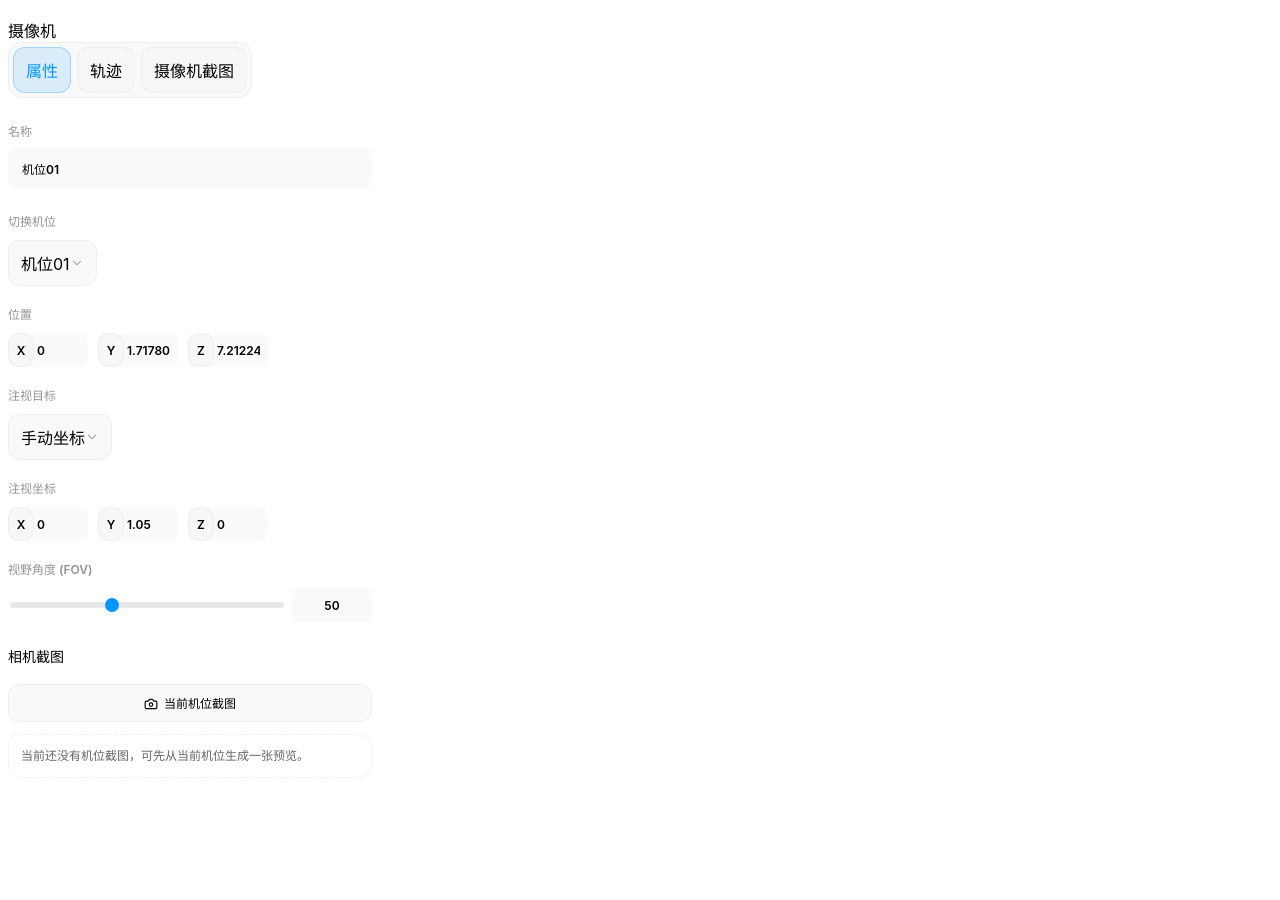
Test: edits and removes the selected camera motion keyframe
This screenshot has width=1280, height=900.
Step 1. Click the button "轨迹" → coordinates (106, 70), box [77,47,135,93]
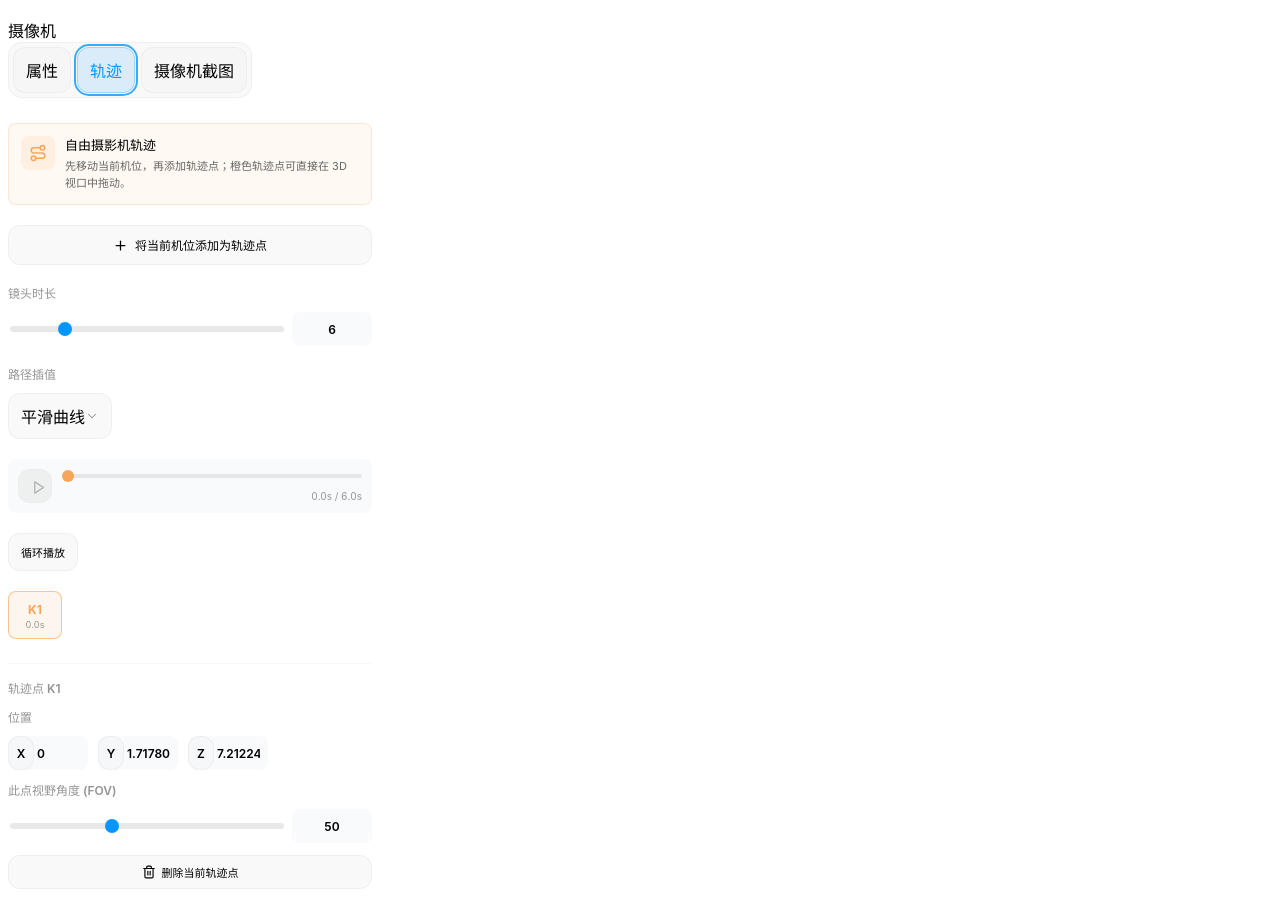
Step 2. Replace the text in the number field named "轨迹点位置 X" with "7.5" → coordinates (60, 753), box [31,736,88,770]
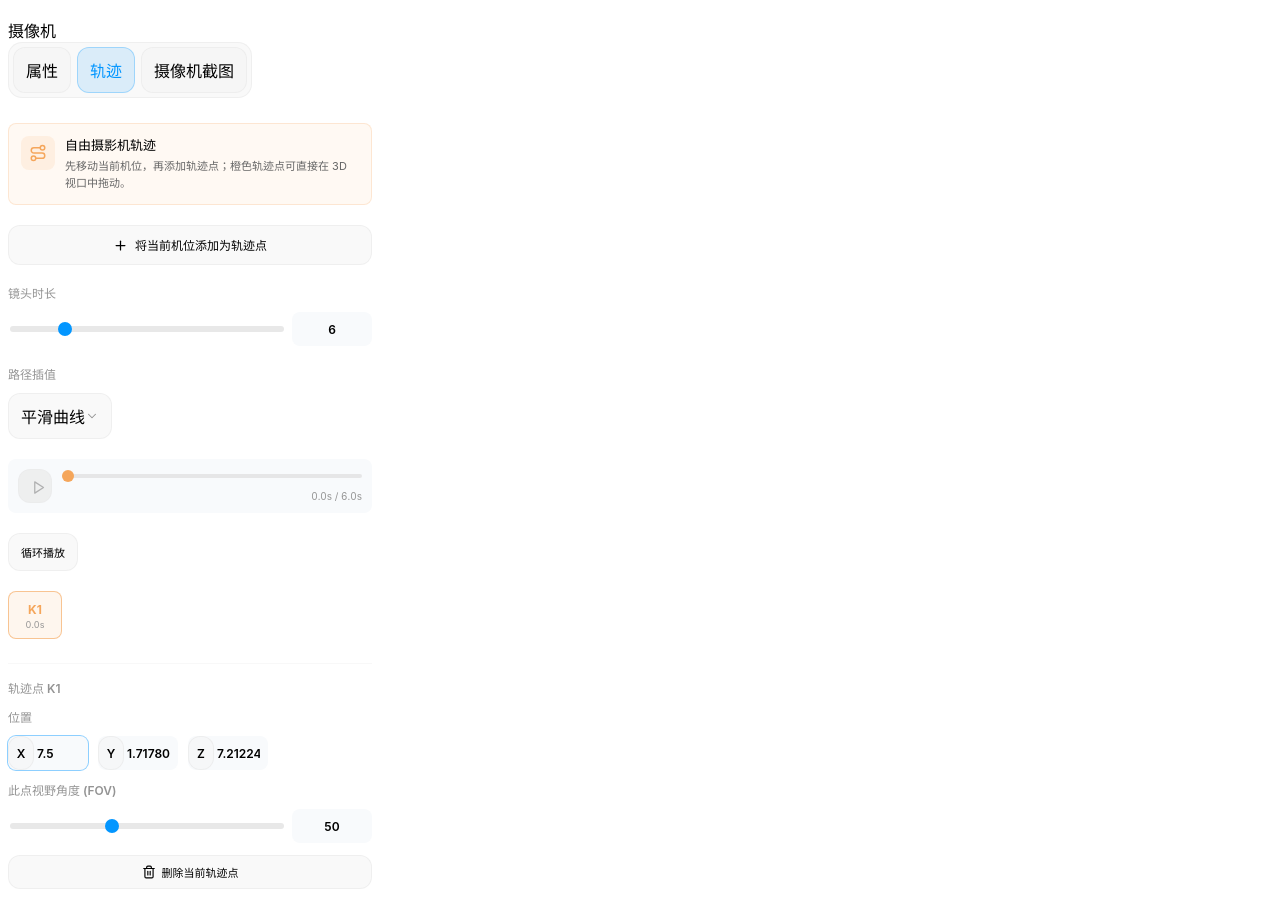
Step 3. Replace the text in the number field named "轨迹点 FOV" with "32" → coordinates (332, 826), box [292,809,372,843]
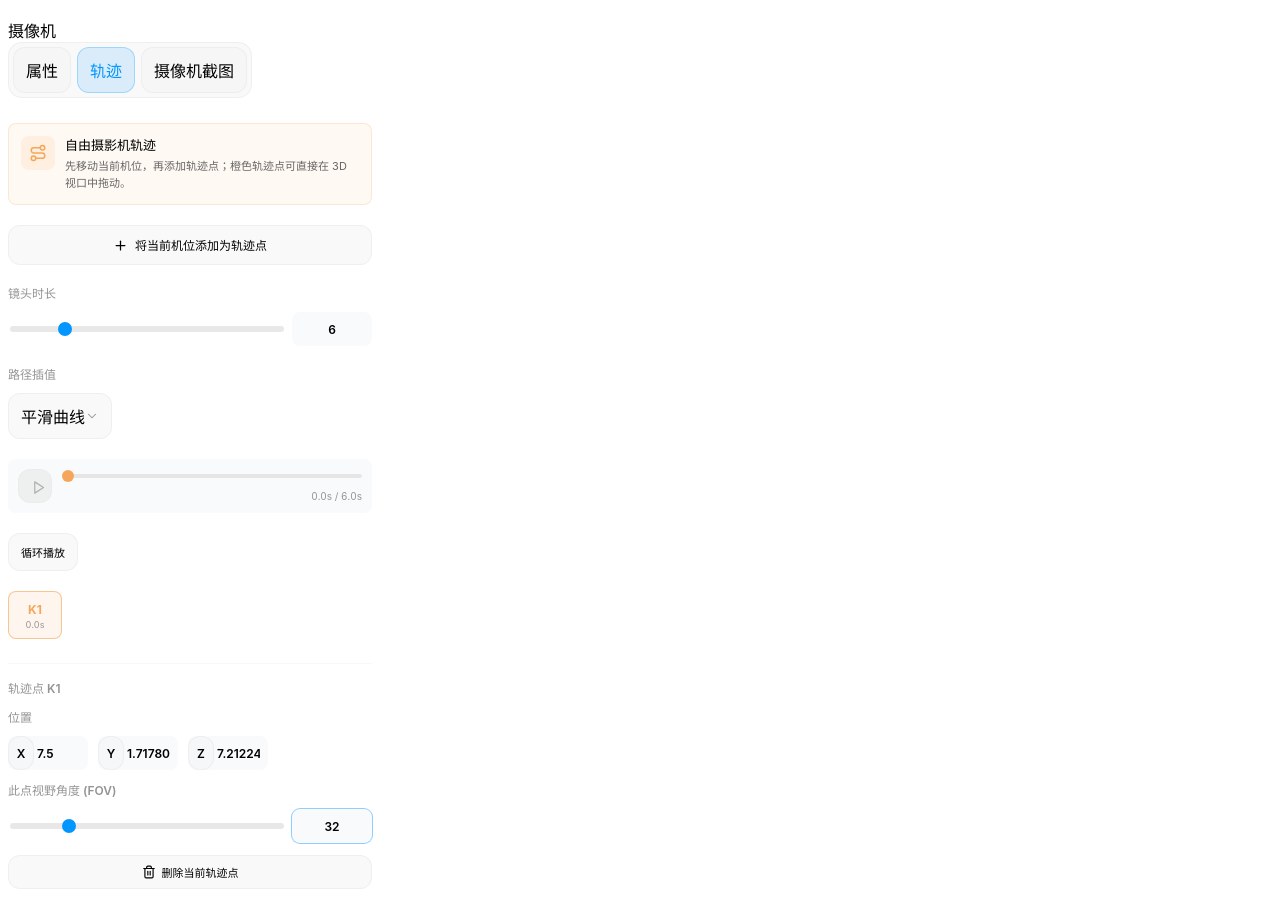
Step 4. Press Tab
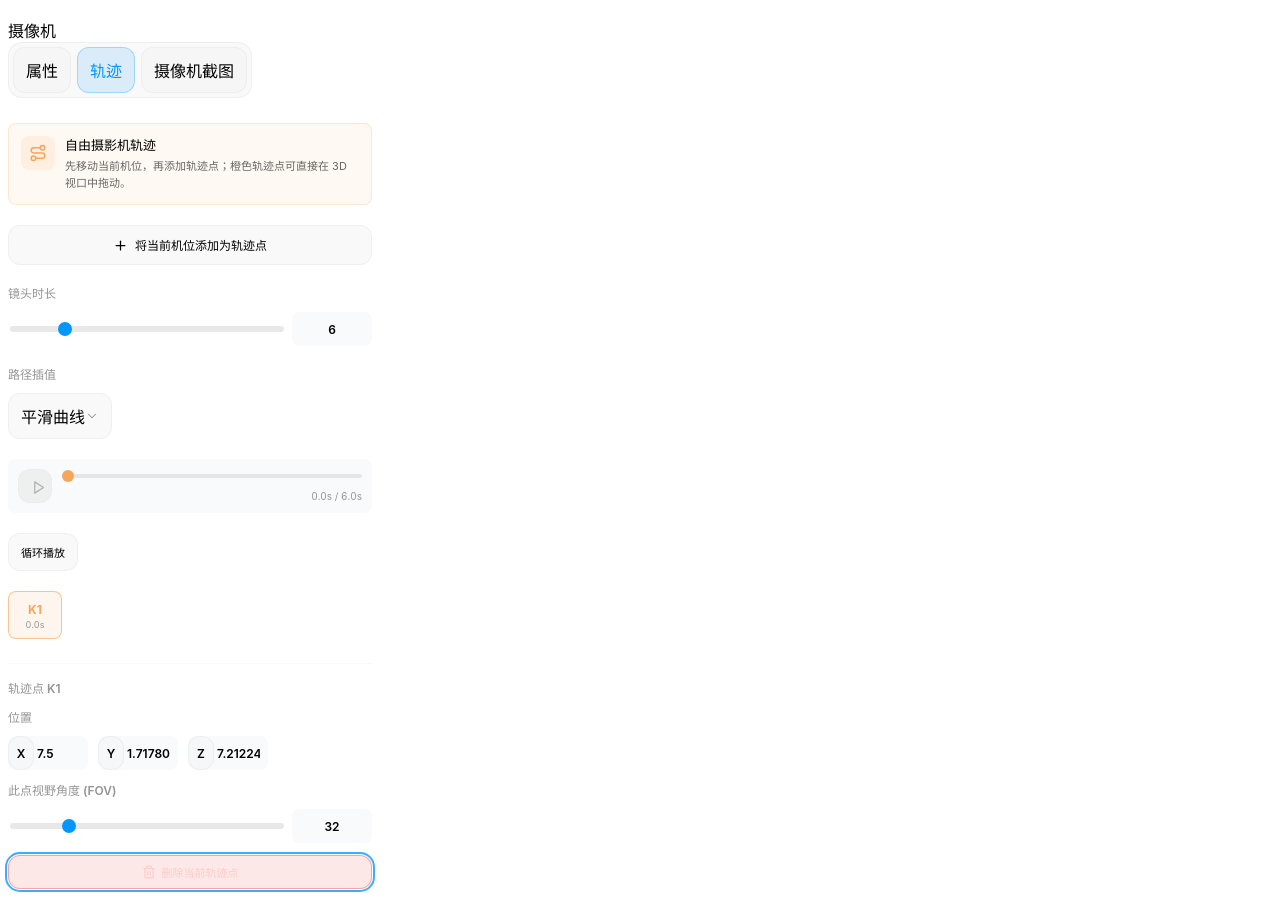
Step 5. Click the button "删除当前轨迹点" → coordinates (190, 872), box [8,855,372,889]
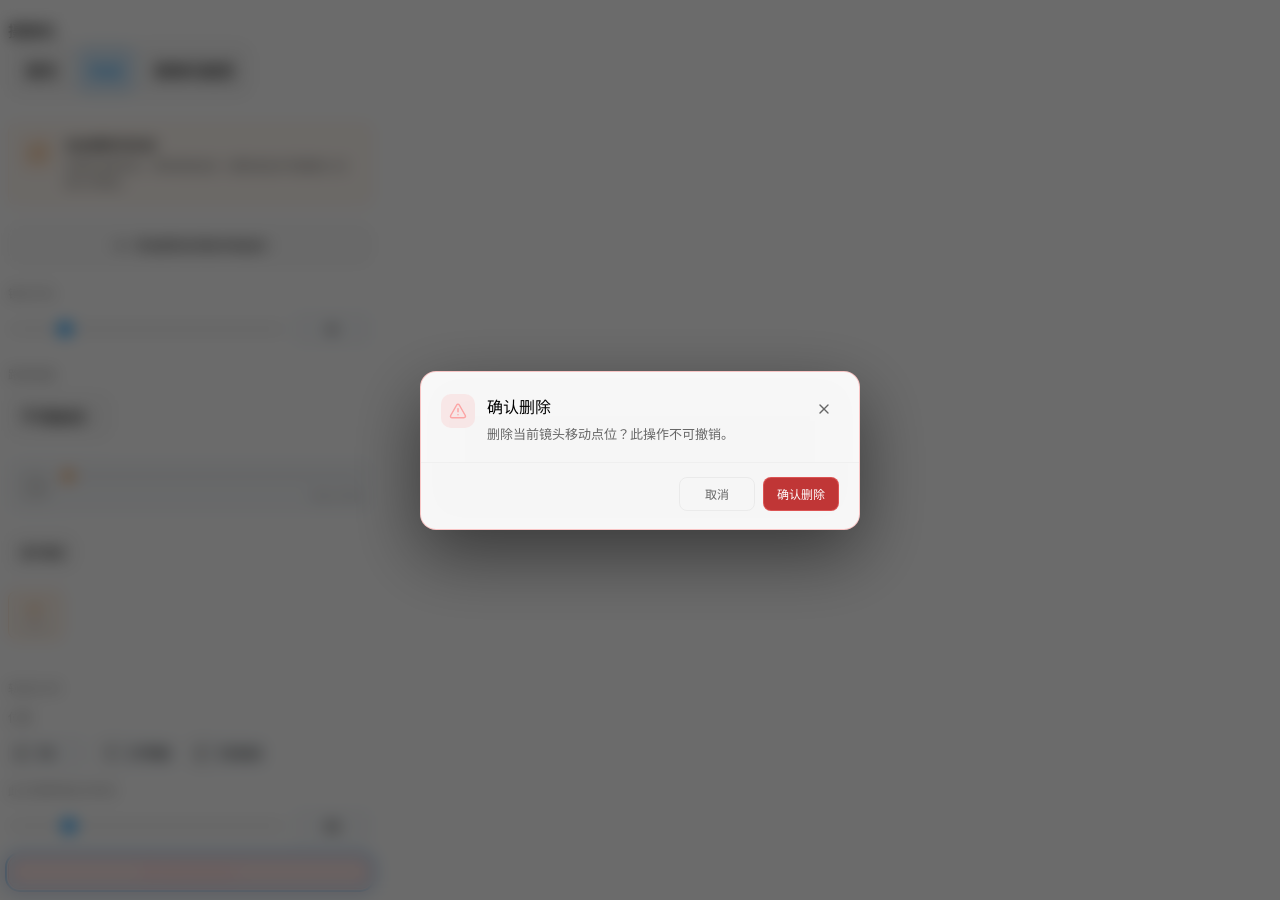
Step 6. Click the button "确认删除" → coordinates (801, 494), box [763,476,839,510]
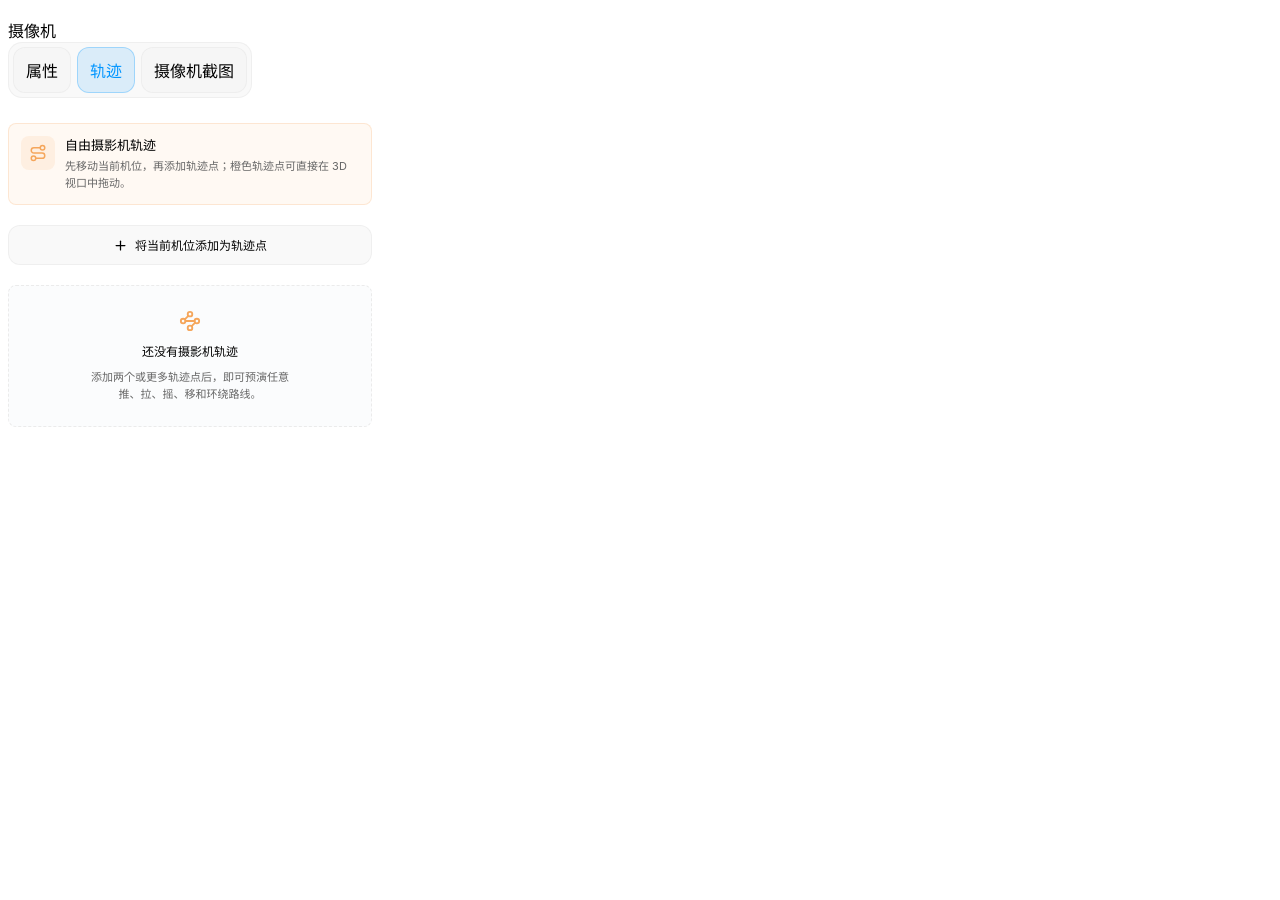
expect the message shows "还没有摄影机轨迹": met, box [142,344,238,358]
